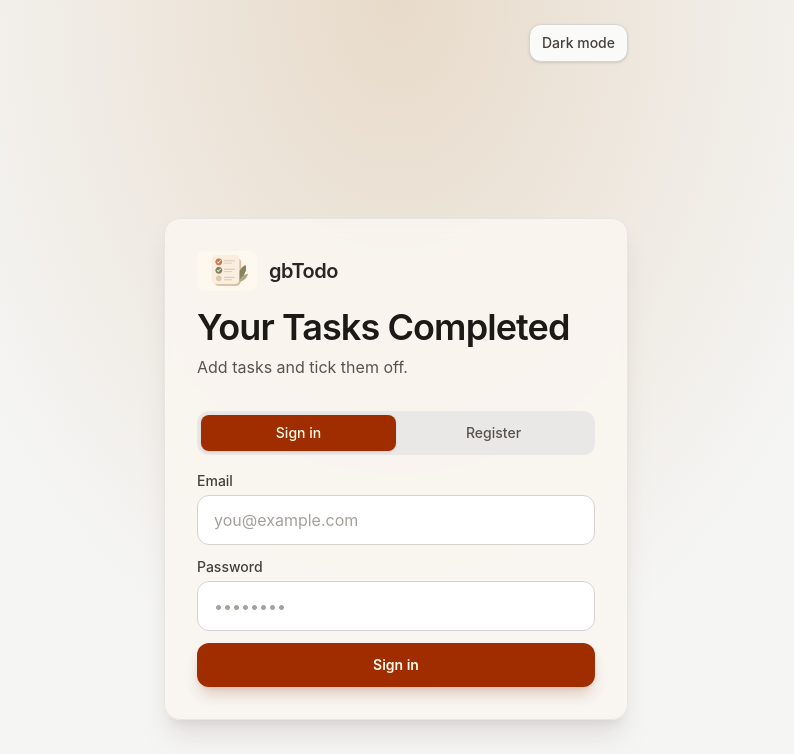
auth gate › signs in with email and password
In the field labelled "Email": coordinates (396, 520) [197,495,595,545], type "tester@example.com"
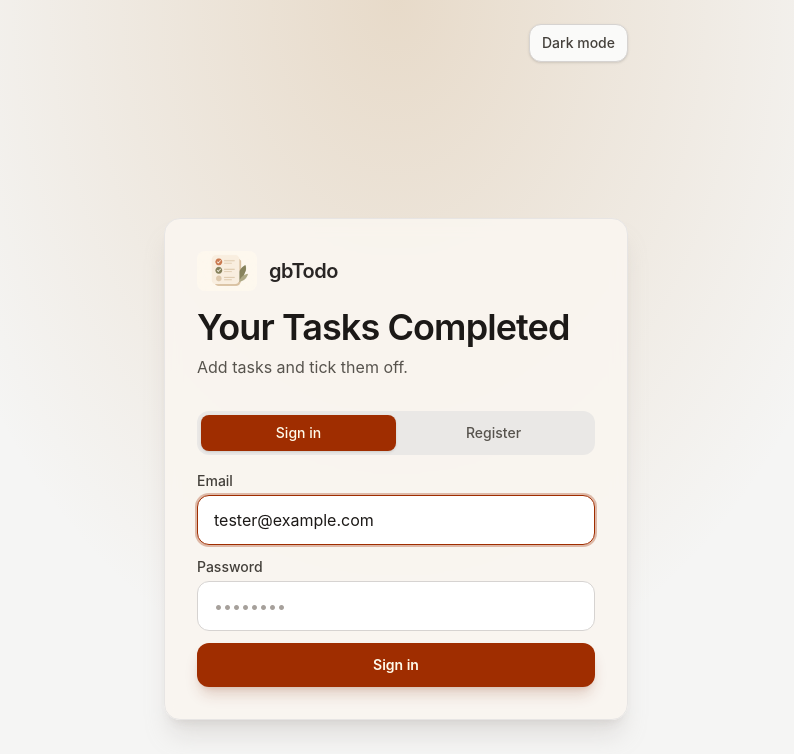
In the password field labelled "Password": coordinates (396, 606) [197,581,595,631], type "secret123"
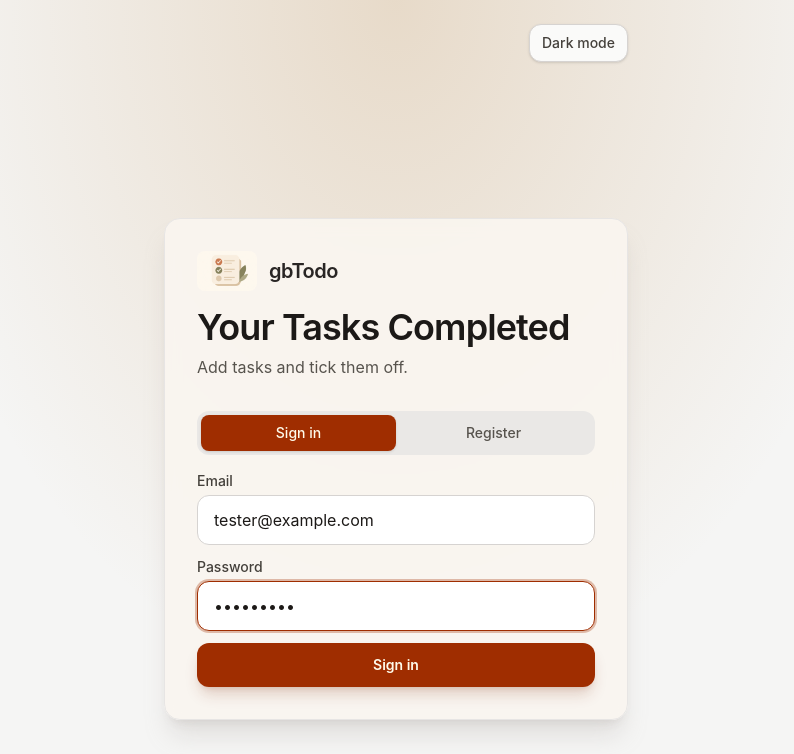
Click the button "Sign in": coordinates (396, 665) [197,643,595,687]
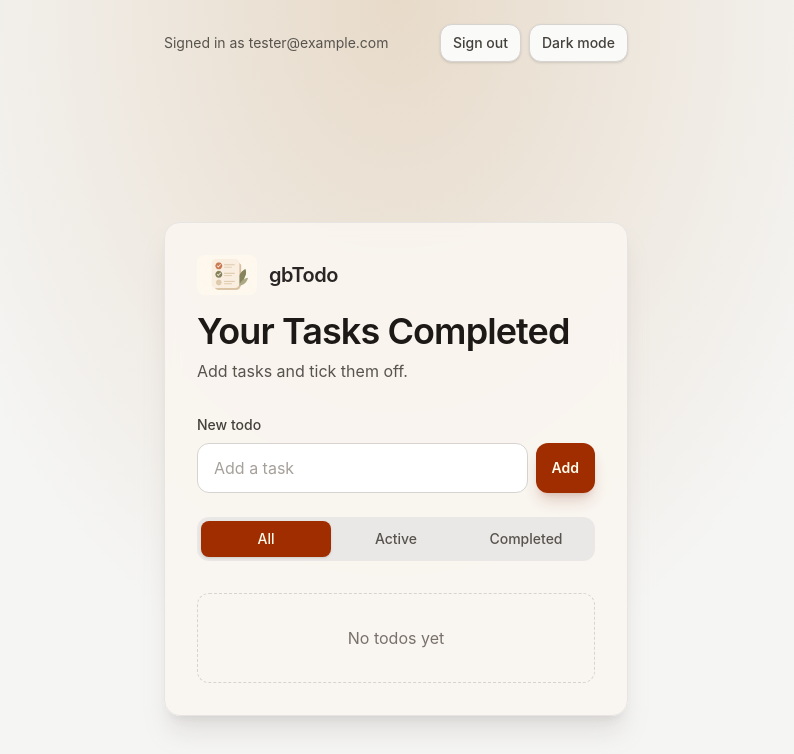
Expected: the field labelled "New todo" is shown, [197,443,528,493]
